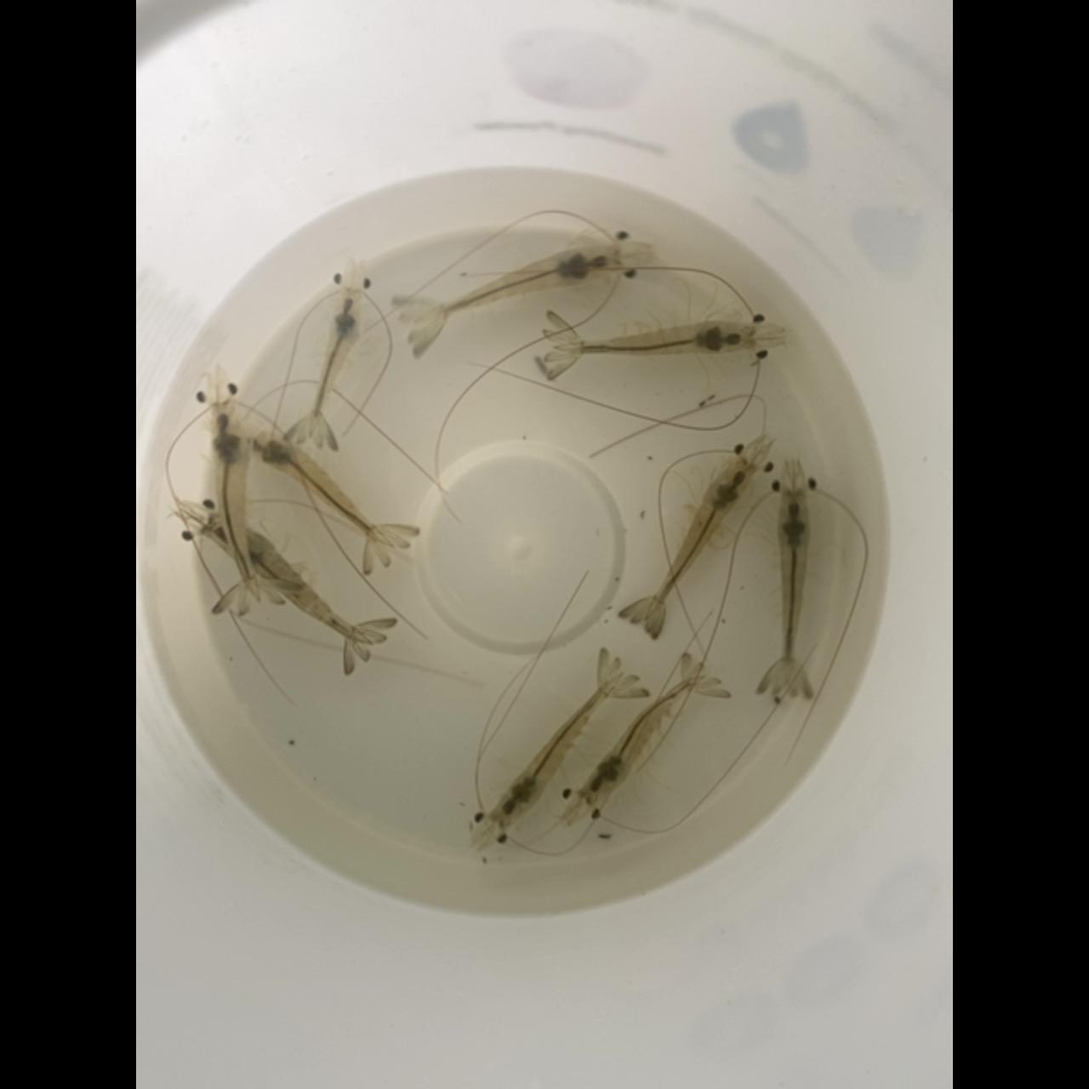top_shrimp: (203, 512, 376, 645), (492, 672, 625, 827), (241, 427, 396, 549), (644, 457, 755, 621), (415, 243, 620, 322), (581, 674, 708, 801), (210, 401, 262, 604), (309, 289, 365, 439), (777, 491, 811, 690), (554, 321, 752, 354)
